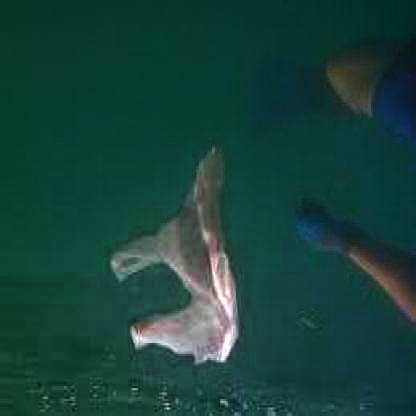pbag: (102, 137, 248, 371)
